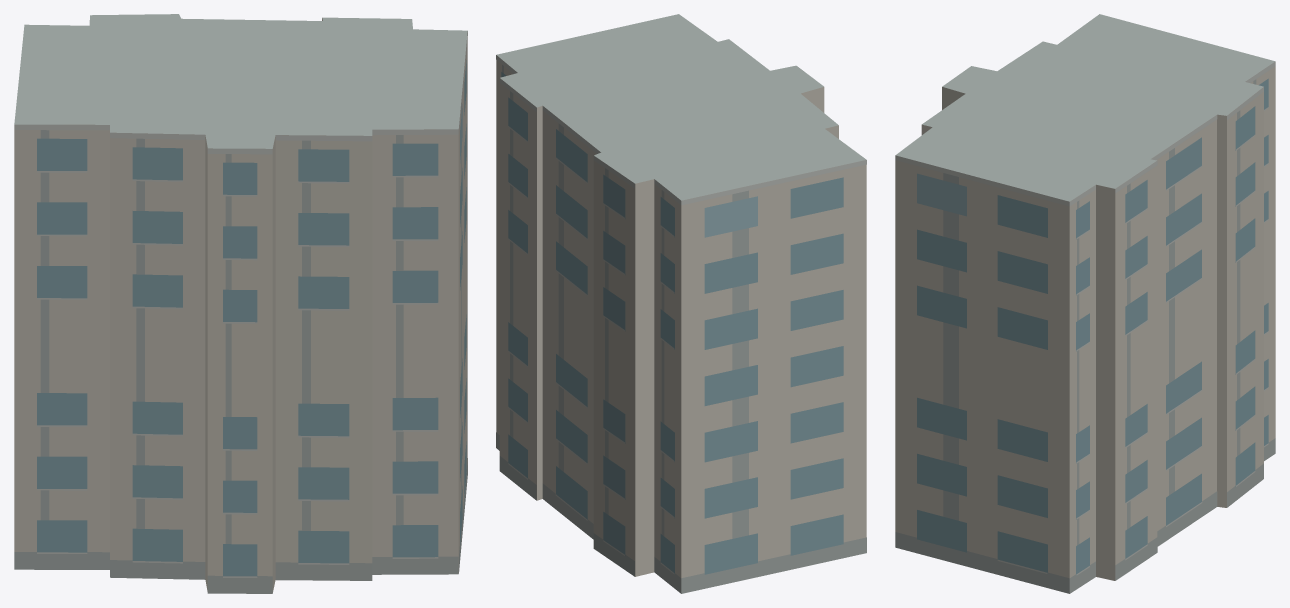
Rendered from survey-upis-32687118.glb.
The picture shows the model from 3 angles, left to right: view 1: azimuth 30°, elevation 25°; view 2: azimuth 150°, elevation 25°; view 3: azimuth 270°, elevation 25°; orthographic projection. The views are drawn at different scales.
Parts seen in each view (by area): view 1: survey-upis-32687118.tmp; view 2: survey-upis-32687118.tmp; view 3: survey-upis-32687118.tmp.
Part boxes in pixels (x1=…): survey-upis-32687118.tmp: x1=14, y1=14, x2=467, y2=593; survey-upis-32687118.tmp: x1=496, y1=14, x2=866, y2=593; survey-upis-32687118.tmp: x1=895, y1=14, x2=1275, y2=593.
Bounding box in the file's own units: 20.43 × 19.9 × 17.49.
